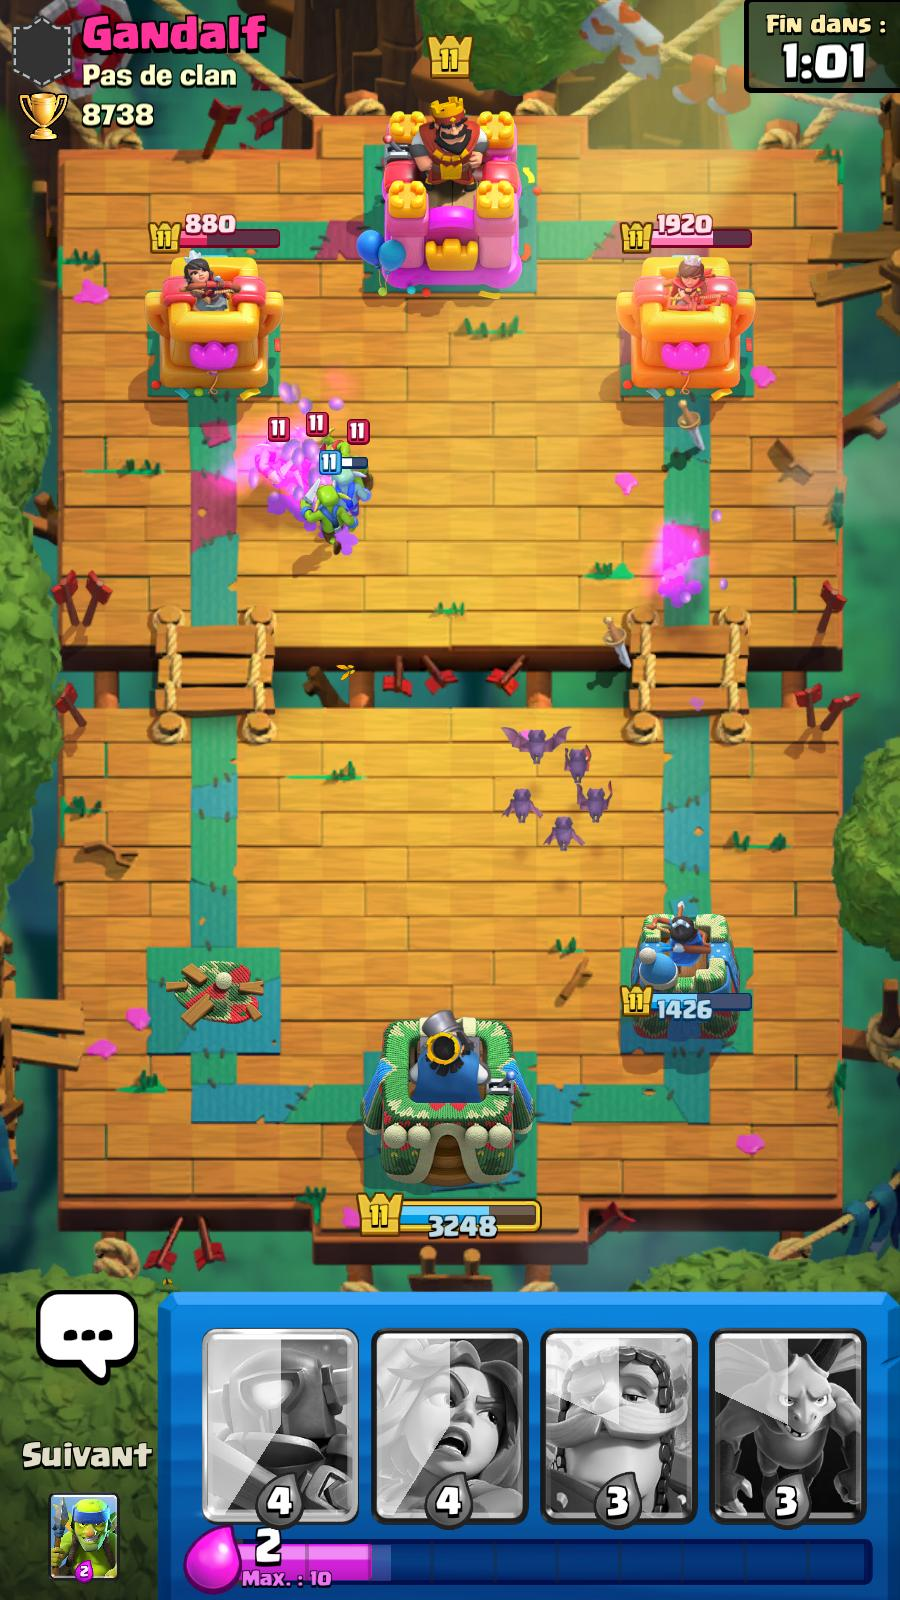bat: (509, 718, 569, 776), (562, 732, 605, 793), (543, 810, 592, 864), (575, 771, 622, 823), (500, 786, 546, 829)
gobelin: (297, 489, 358, 560), (242, 433, 297, 492), (325, 465, 376, 521), (323, 422, 367, 486), (295, 418, 330, 475)
